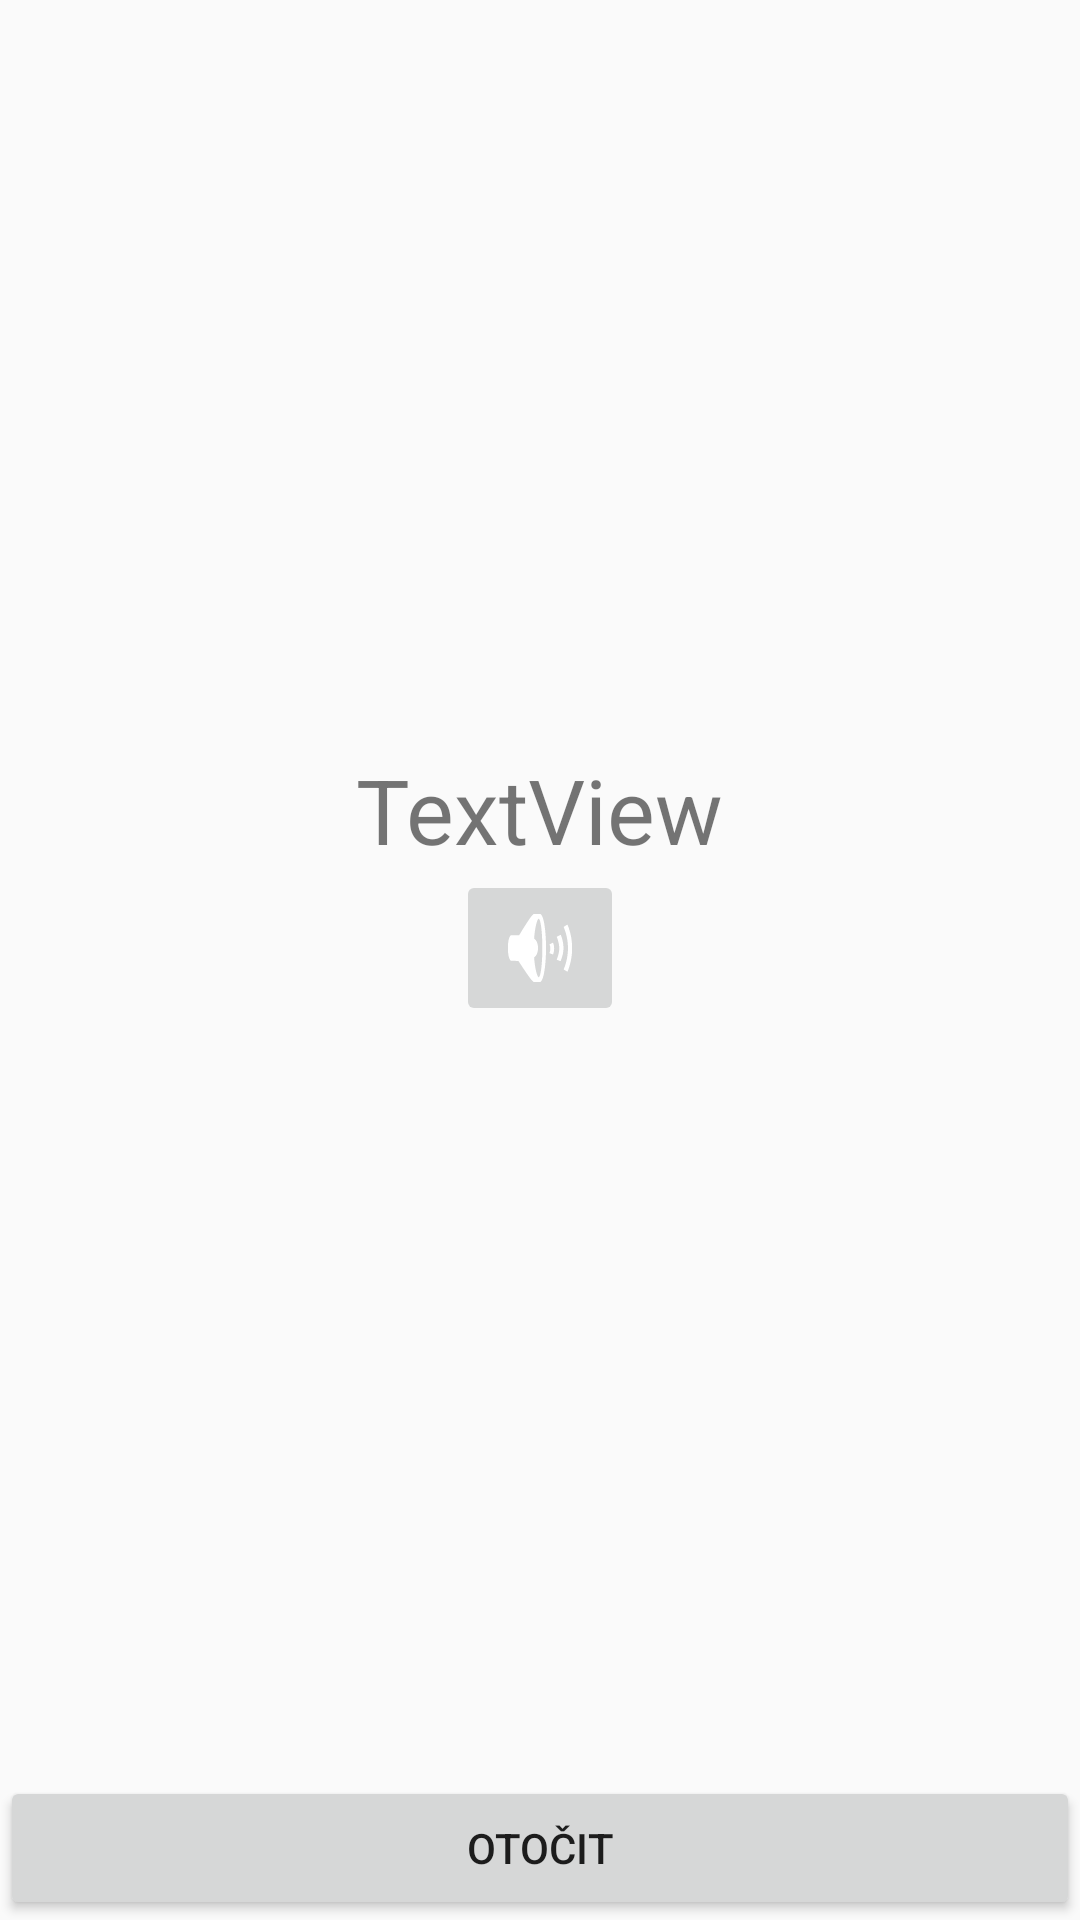

Locate icon controls on the screen. Image size 1080w x 1920h, boxes as box=[x1, y1, x2, y2].
lock silent mode off: box=[468, 888, 612, 1008]
